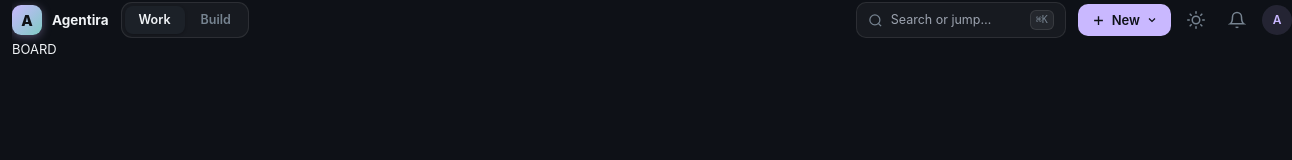
Test: AppTopbar — blended bar › shows a no-results message
This screenshot has width=1292, height=160.
Type "zzzq" into the field with placeholder "Search or jump…" at (956, 20), box [891,11,1022,29]
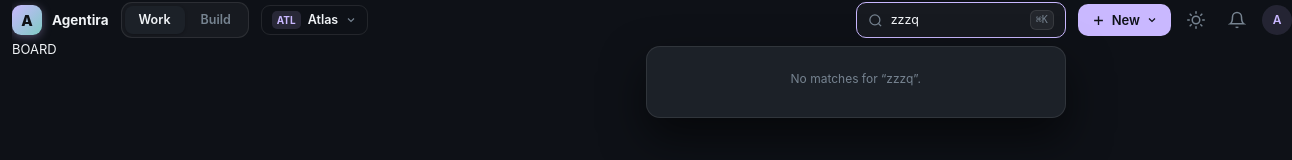
Expected: the text "No matches for “zzzq”." is shown, [790,71,921,86]
